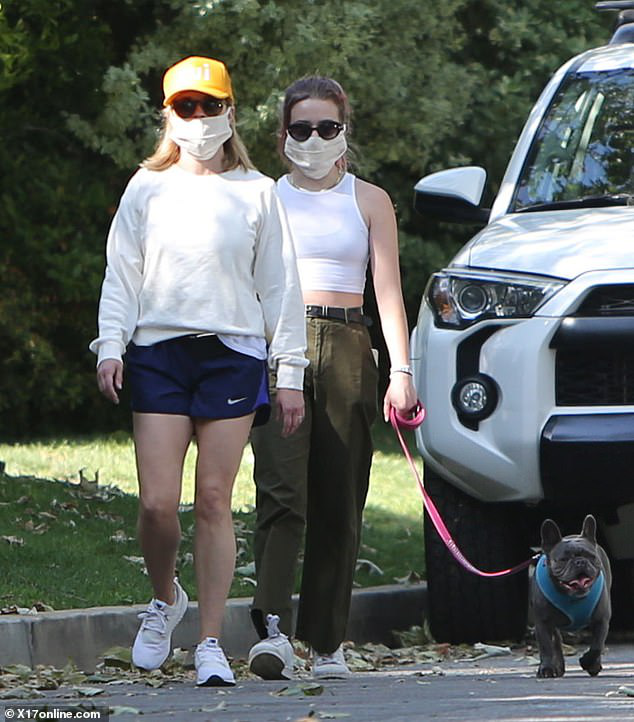mask_weared_incorrect: (163, 86, 232, 165)
with_mask: (282, 95, 351, 181)
